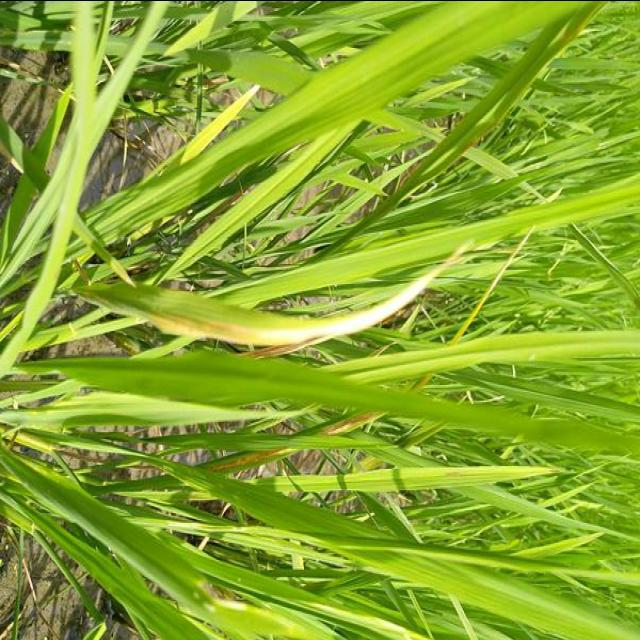Leaf Blight: (147, 239, 473, 354), (450, 226, 532, 346), (197, 448, 298, 475), (311, 411, 382, 437), (412, 375, 433, 391)
